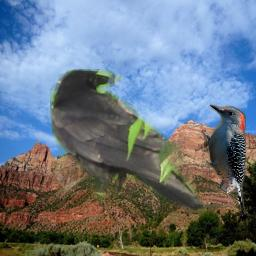Crow: (50, 69, 207, 211)
Woodpecker: (201, 102, 246, 215)
